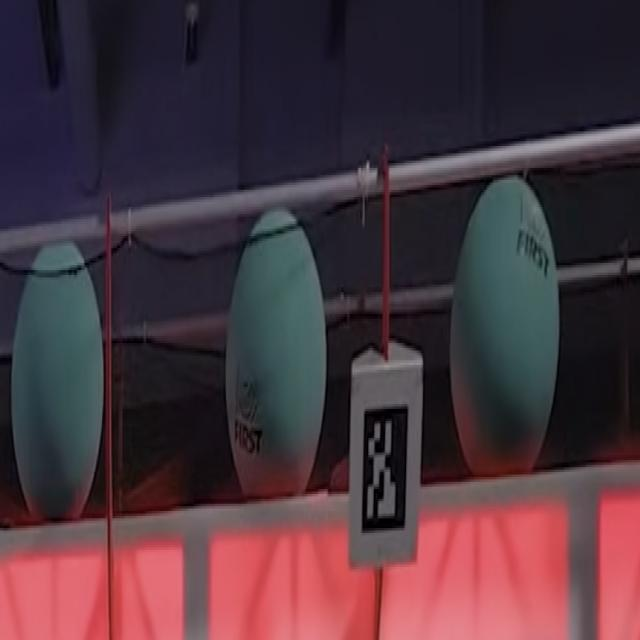Algae: (450, 175, 560, 477), (225, 213, 326, 499), (12, 244, 104, 526)
